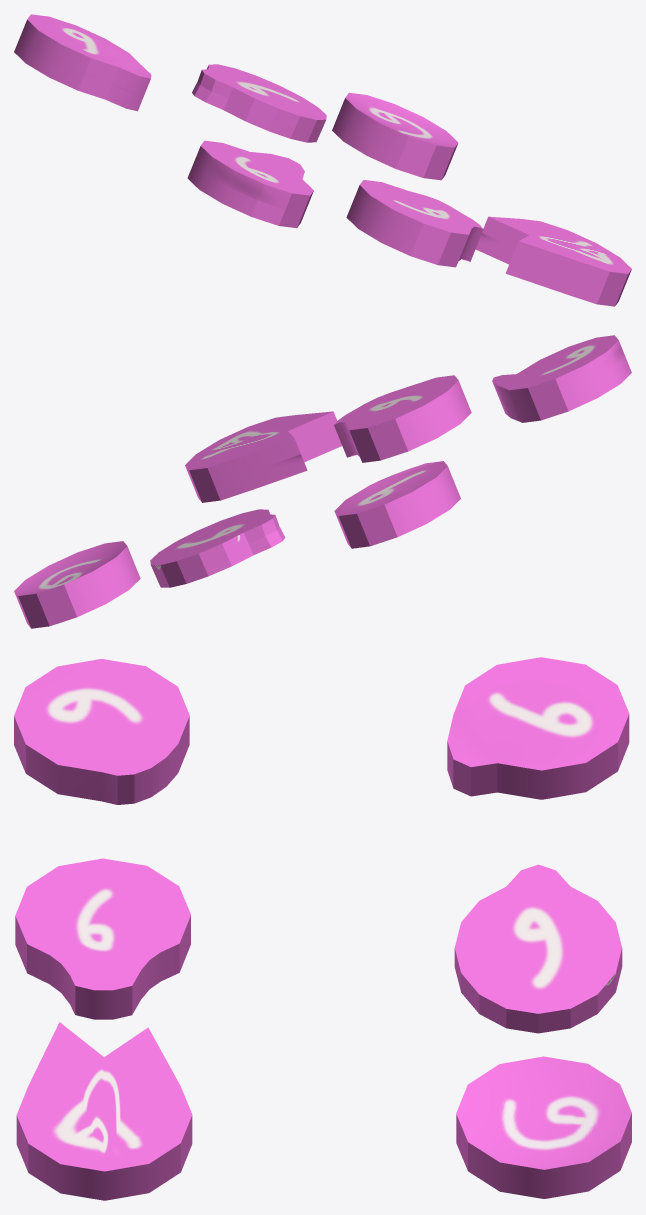
File: JENPEUXPLUSLESTOUCHES.fbx
3 renders of one model, top to bottom at view 1: azimuth 30°, elevation 25°; view 2: azimuth 150°, elevation 25°; view 3: azimuth 270°, elevation 25°, orthographic. The views are drawn at different scales.
Visible parts, largest first — view 1: Touche_Bas_G, Touche_Haut_D, Touche_Mid_G, Touche_Haut_G, Touche_Bas_D, Touche_Mid_D; view 2: Touche_Bas_G, Touche_Mid_G, Touche_Haut_G, Touche_Bas_D, Touche_Haut_D, Touche_Mid_D; view 3: Touche_Bas_G, Touche_Mid_G, Touche_Haut_D, Touche_Mid_D, Touche_Haut_G, Touche_Bas_D.
Part boxes in pixels (x1,y1,x2,y2): Touche_Bas_G: [475, 216, 631, 306]; Touche_Haut_D: [14, 14, 151, 111]; Touche_Mid_G: [346, 180, 483, 267]; Touche_Haut_G: [187, 140, 313, 228]; Touche_Bas_D: [332, 92, 458, 180]; Touche_Mid_D: [192, 64, 326, 142]; Touche_Bas_G: [185, 411, 342, 502]; Touche_Mid_G: [334, 375, 471, 462]; Touche_Haut_G: [492, 335, 631, 422]; Touche_Bas_D: [14, 541, 140, 628]; Touche_Haut_D: [334, 461, 460, 548]; Touche_Mid_D: [150, 509, 285, 587]; Touche_Bas_G: [16, 1022, 192, 1200]; Touche_Mid_G: [15, 858, 190, 1019]; Touche_Haut_D: [447, 657, 629, 799]; Touche_Mid_D: [454, 864, 622, 1033]; Touche_Haut_G: [14, 659, 189, 804]; Touche_Bas_D: [456, 1056, 631, 1198].
Bounding box in the file's own units: 64.41 × 33.6 × 63.64.
